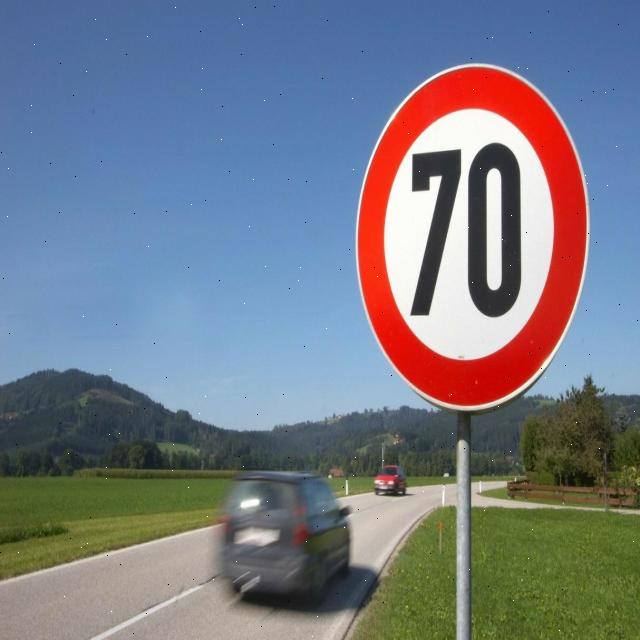speed limit 70: (355, 63, 589, 412)
